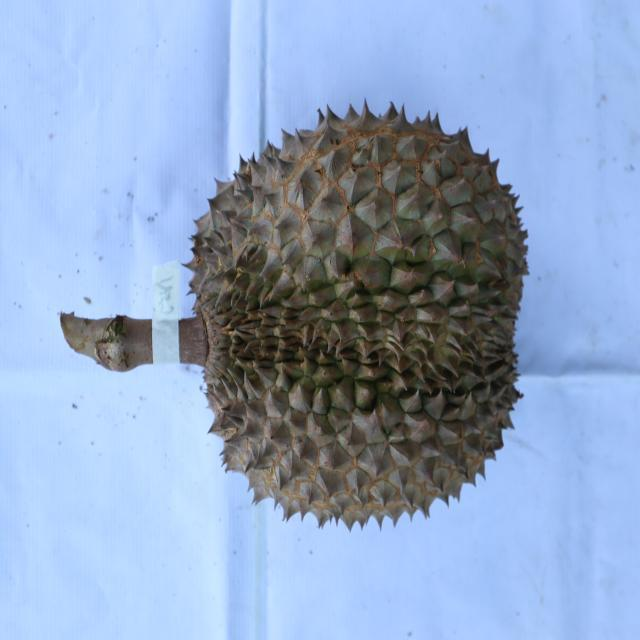mature: (184, 100, 530, 531)
